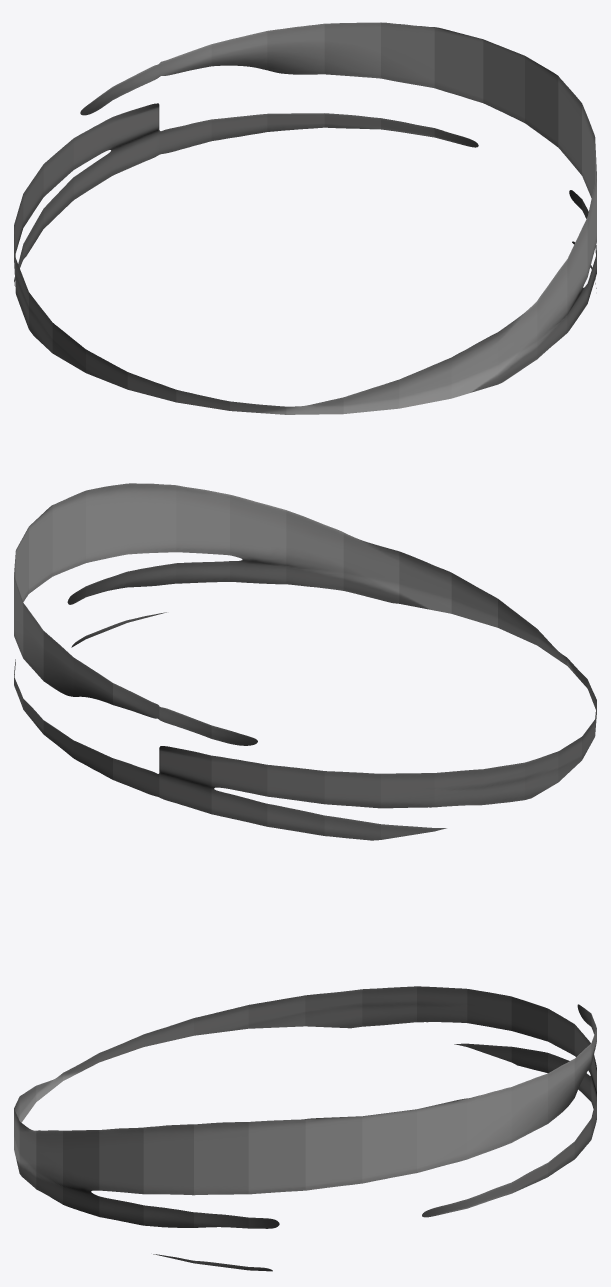
The model's file is trail.fbx.
3 renders of one model, top to bottom at view 1: azimuth 30°, elevation 25°; view 2: azimuth 150°, elevation 25°; view 3: azimuth 270°, elevation 25°, orthographic.
Visible parts, largest first — view 1: Cylinder; view 2: Cylinder; view 3: Cylinder.
Boxes of the visible parts, bbox=[...] form: Cylinder: bbox=[14, 22, 596, 414]; Cylinder: bbox=[14, 483, 596, 840]; Cylinder: bbox=[14, 986, 596, 1271].
Bounding box in the file's own units: 391 × 114 × 391.
